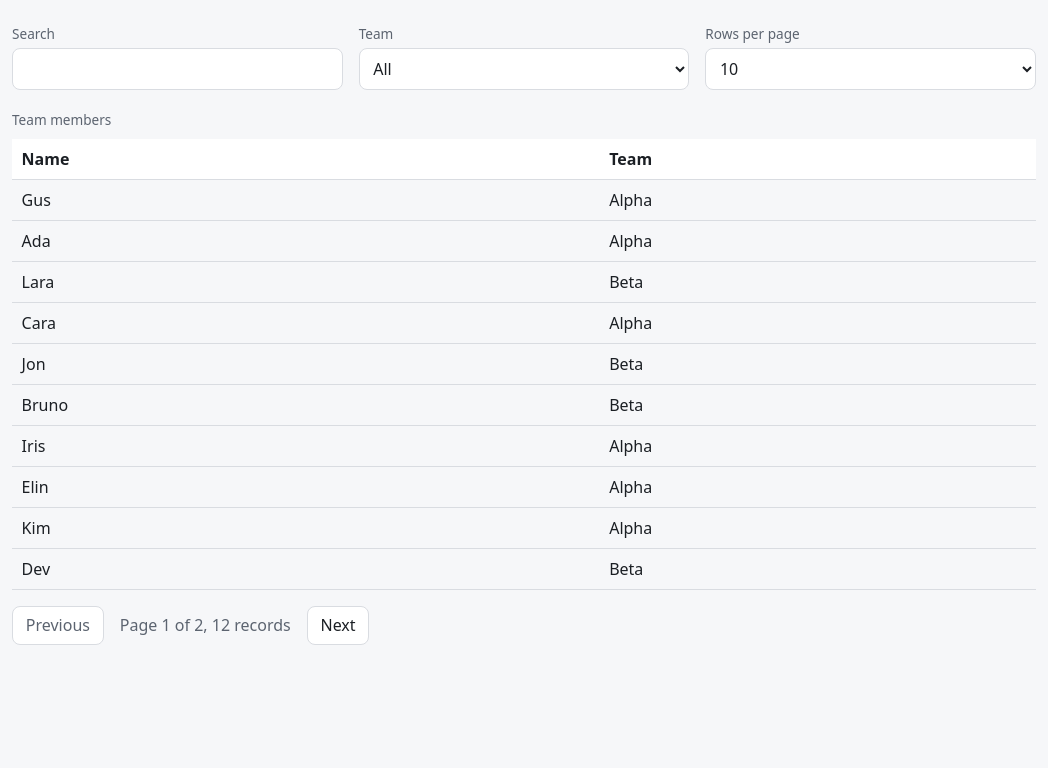
Scenario: DataTable › returns to the first page when a filter changes
The image size is (1048, 768).
Click the button "Next": (338, 625) [307,606,369,645]
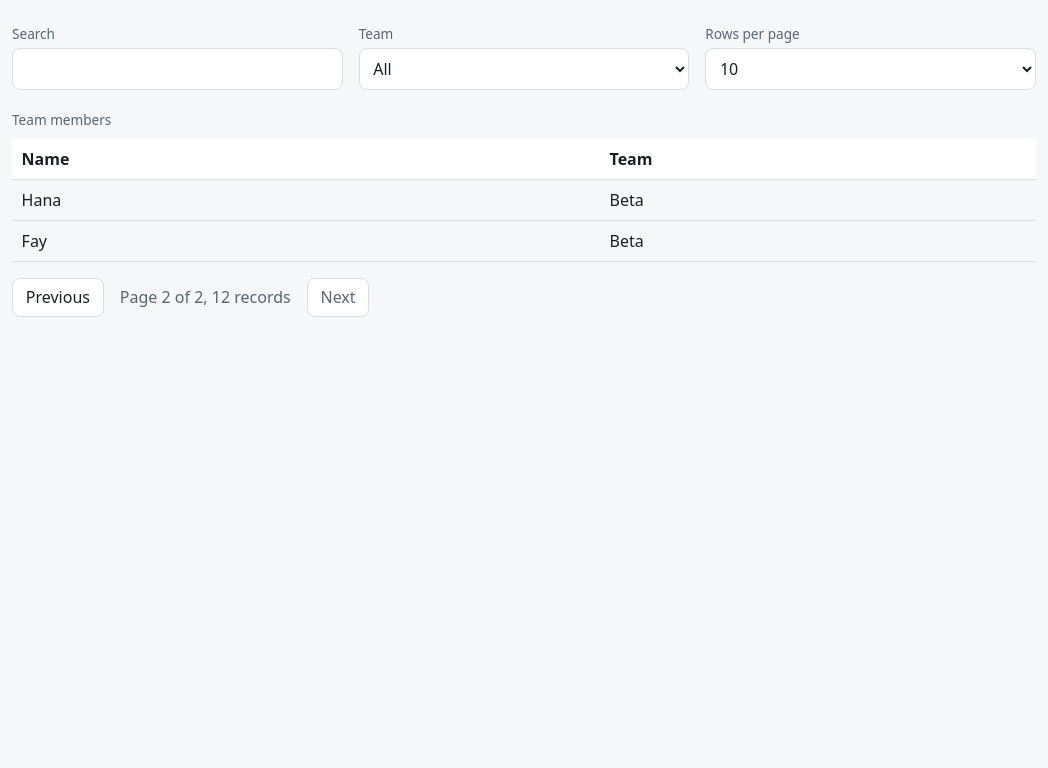
Expected: the text "Page 2 of 2, 12 records" is shown, [120,285,291,309]
Select "Beta" in the dropdown labelled "Team": (524, 69) [359,48,689,90]
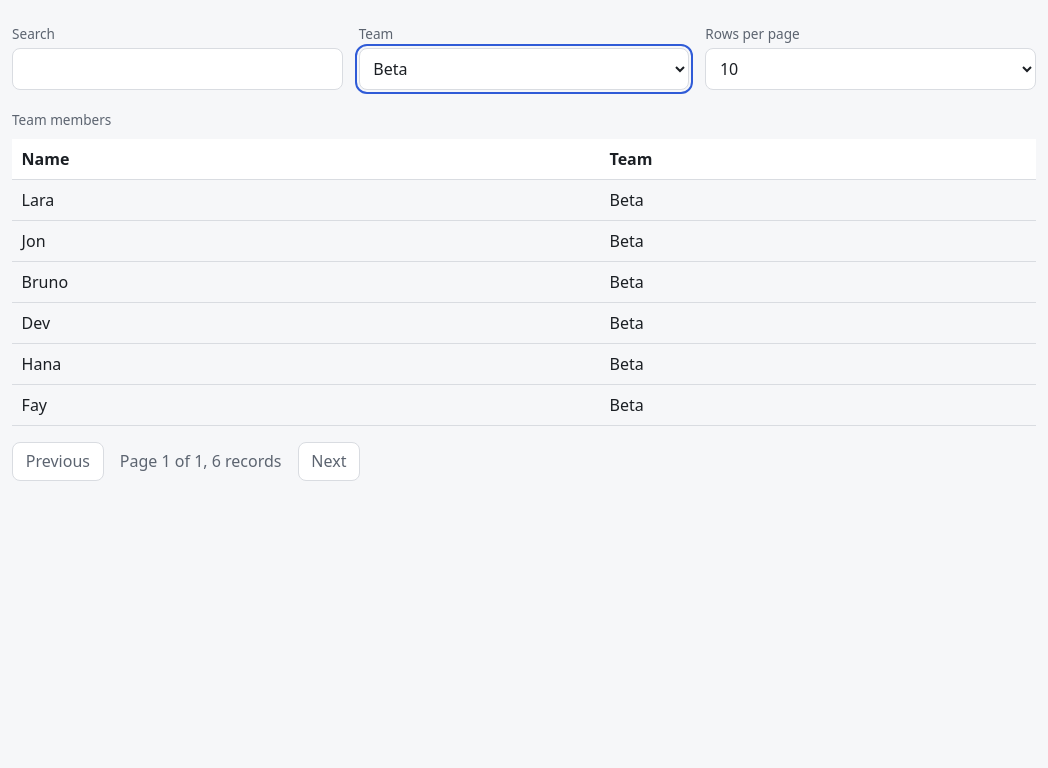
Expected: the text "Page 1 of 1, 6 records" is shown, [120,449,282,473]
